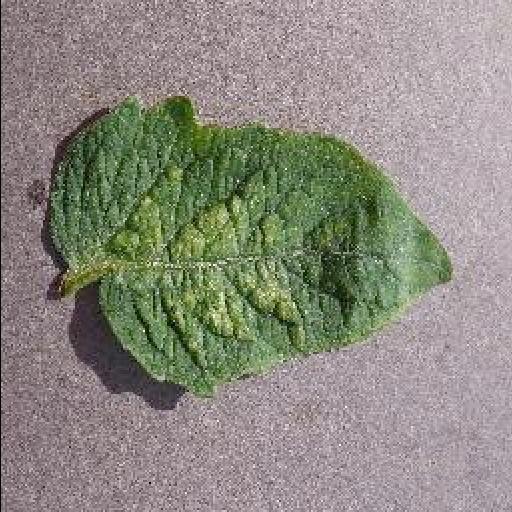disease_tomato: (52, 94, 454, 400)
